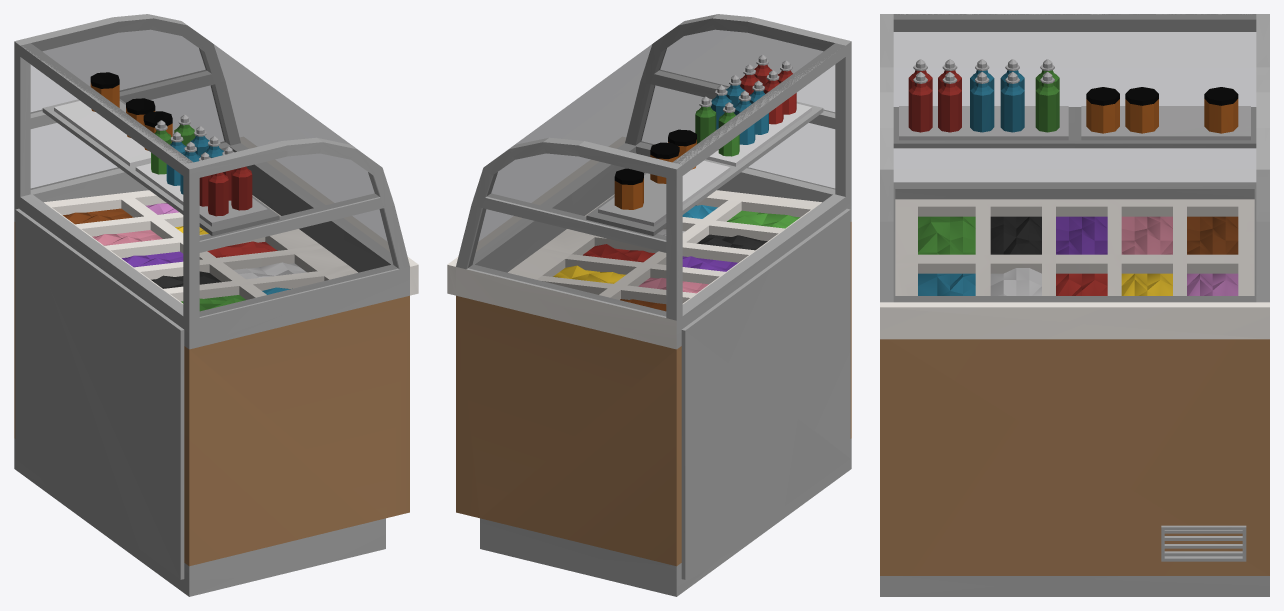
The model's file is SM_donutsCounter_04.glb.
The picture shows the model from 3 angles, left to right: view 1: azimuth 30°, elevation 25°; view 2: azimuth 150°, elevation 25°; view 3: azimuth 270°, elevation 25°; orthographic projection. The views are drawn at different scales.
Visible parts, largest first — view 1: SM_donutsCounter_04; view 2: SM_donutsCounter_04; view 3: SM_donutsCounter_04.
Part boxes in pixels (x1,y1,x2,y2): SM_donutsCounter_04: (14, 14, 418, 596); SM_donutsCounter_04: (447, 14, 851, 596); SM_donutsCounter_04: (880, 14, 1269, 596).
Bounding box in the file's own units: 0.7689 × 1.35 × 1.
2 materials, 1 textured.
